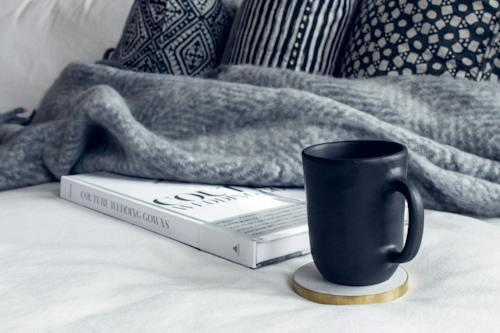Mug: (270, 104, 434, 324)
